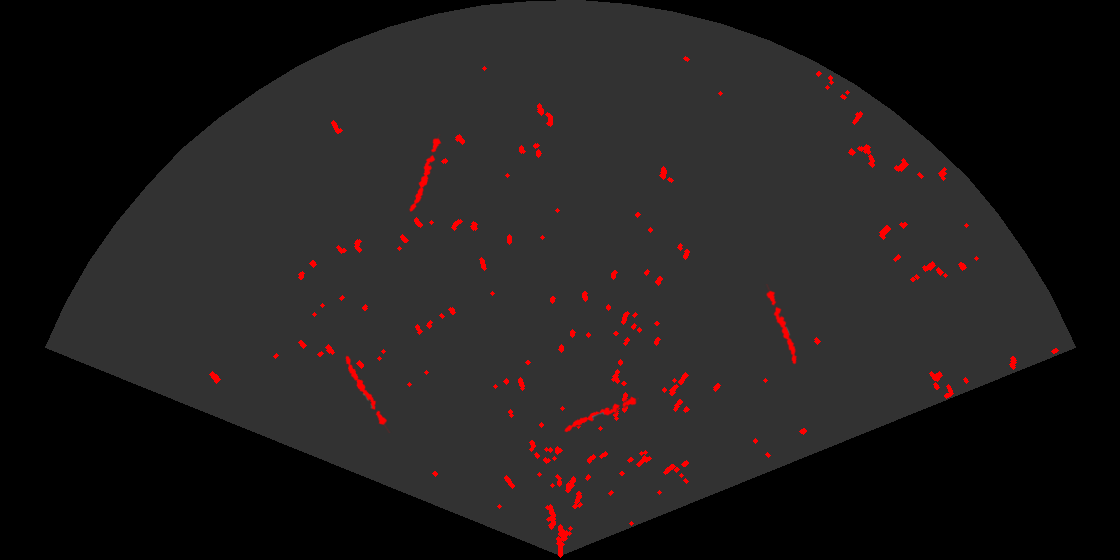chain: (344, 354, 392, 433), (563, 395, 639, 434), (764, 284, 799, 366), (408, 134, 443, 214)
